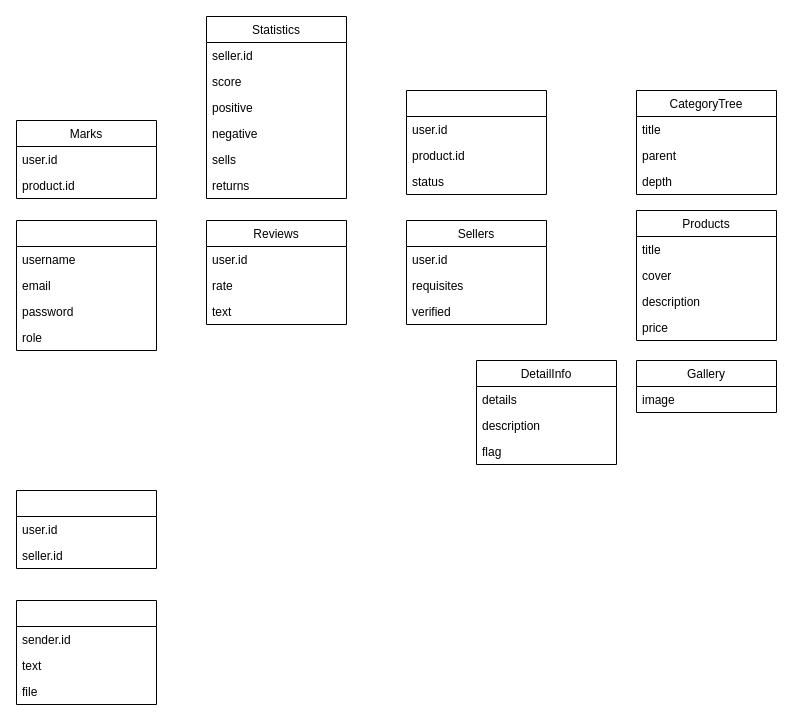
This 793x721 diagram has some shape labels left out. The shapes that lost their labels are listed below. From the top down, each one's box as (x1, y1, x2, y2) in pixels, then its label:
(406, 90, 546, 194): Trade
(16, 220, 156, 350): Users
(16, 490, 156, 568): Chat
(16, 600, 156, 704): Message
